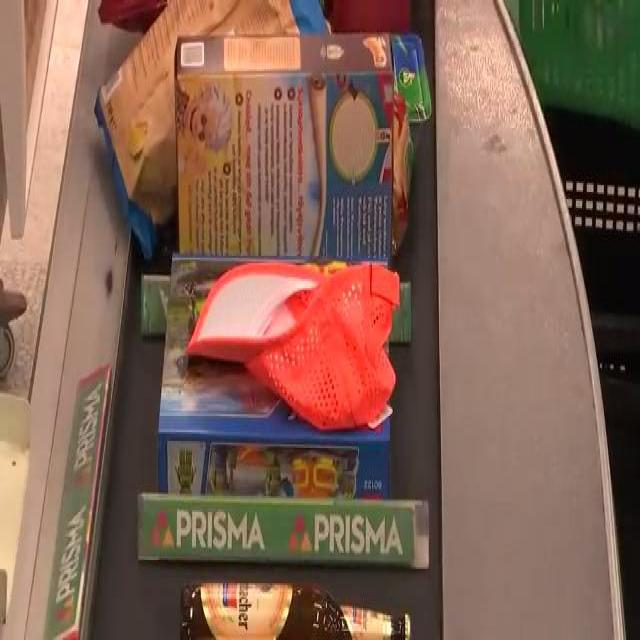beverage: (181, 583, 412, 640)
food-box: (100, 0, 322, 274)
utility-box: (157, 254, 401, 502), (178, 34, 398, 258), (203, 262, 398, 430)
